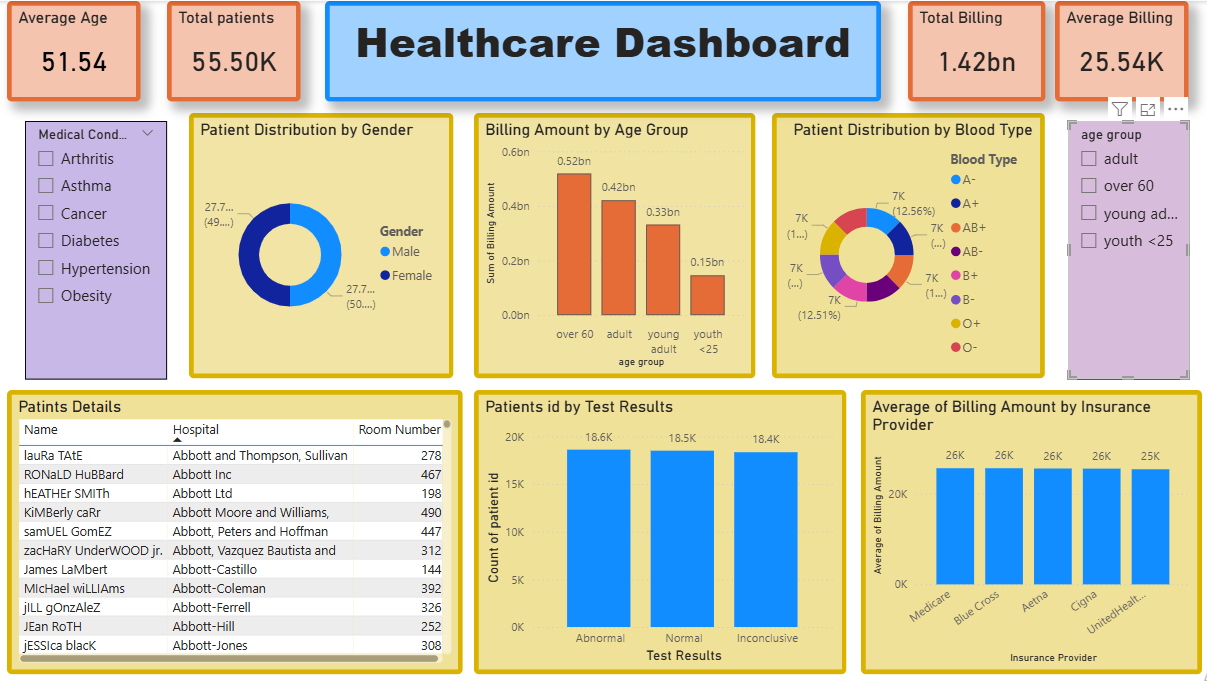

The page's visual inventory and layout, read from the dashboard file:
{"tool":"powerbi","page":{"name":"Page 1","canvas":[1280,720],"ordinal":0},"visuals":[{"type":"donutChart","title":"Patient Distribution by Gender","fields":{"Y":["CountNonNull(healthcare_dataset.Name)"],"Category":["healthcare_dataset.Gender"]},"box":[202.3,118.8,279.3,280.4],"z":0},{"type":"donutChart","title":"Patient Distribution by Blood Type","fields":{"Category":["healthcare_dataset.Blood Type"],"Y":["Sum(healthcare_dataset.patient id)"]},"box":[818.1,118.8,288.1,280.4],"z":2000},{"type":"tableEx","title":"Patints Details","fields":{"Values":["healthcare_dataset.Name","healthcare_dataset.Hospital","healthcare_dataset.Room Number"]},"box":[11,410.2,480.5,300.2],"z":3000},{"type":"actionButton","box":[0,0,100,40],"z":4000},{"type":"clusteredColumnChart","fields":{"Category":["healthcare_dataset.Insurance Provider"],"Y":["Avg(healthcare_dataset.Billing Amount)"]},"box":[911.6,410.2,359.6,300.2],"z":5000},{"type":"card","title":"Average Age","fields":{"Values":["Avg(healthcare_dataset.Age)"]},"box":[69.3,0,140.8,105.6],"z":6000},{"type":"clusteredColumnChart","title":"Patients id by Test Results","fields":{"Category":["healthcare_dataset.Test Results"],"Y":["CountNonNull(healthcare_dataset.patient id)"]},"box":[503.6,410.2,392.6,300.2],"z":7000},{"type":"clusteredColumnChart","title":"Billing Amount by Age Group","fields":{"Y":["Sum(healthcare_dataset.Billing Amount)"],"Category":["healthcare_dataset.age group"]},"box":[503.6,118.8,296.9,280.4],"z":8000},{"type":"card","title":"Total patients","fields":{"Values":["CountNonNull(healthcare_dataset.patient id)"]},"box":[219.9,0,140.8,105.6],"z":8001},{"type":"card","title":"Total Billing ","fields":{"Values":["Sum(healthcare_dataset.Billing Amount)"]},"box":[974.3,0,145.2,105.6],"z":8002},{"type":"card","title":"Average Billing","fields":{"Values":["Avg(healthcare_dataset.Billing Amount)"]},"box":[1130.4,0,140.8,105.6],"z":8003},{"type":"textbox","box":[375,0,587.2,105.6],"z":8004},{"type":"slicer","fields":{"Values":["healthcare_dataset.age group"]},"box":[1130.4,126.5,127.6,272.7],"z":8005},{"type":"slicer","fields":{"Values":["healthcare_dataset.Medical Condition"]},"box":[29.7,126.5,149.6,272.7],"z":8006}]}

Visuals, with their boxes in screenshot pixels (x1, y1, x2, y2), scaled from the page's 1280x720 canvas onto the 1207x681 screenshot:
"Patient Distribution by Gender" donutChart: (191,112,454,378)
"Patient Distribution by Blood Type" donutChart: (771,112,1043,378)
"Patints Details" tableEx: (10,388,463,672)
actionButton: (0,0,94,38)
clusteredColumnChart - healthcare_dataset.Insurance Provider x Avg(healthcare_dataset.Billing Amount): (860,388,1199,672)
"Average Age" card: (65,0,198,100)
"Patients id by Test Results" clusteredColumnChart: (475,388,845,672)
"Billing Amount by Age Group" clusteredColumnChart: (475,112,755,378)
"Total patients" card: (207,0,340,100)
"Total Billing " card: (919,0,1056,100)
"Average Billing" card: (1066,0,1199,100)
textbox: (354,0,907,100)
slicer - healthcare_dataset.age group: (1066,120,1186,378)
slicer - healthcare_dataset.Medical Condition: (28,120,169,378)
